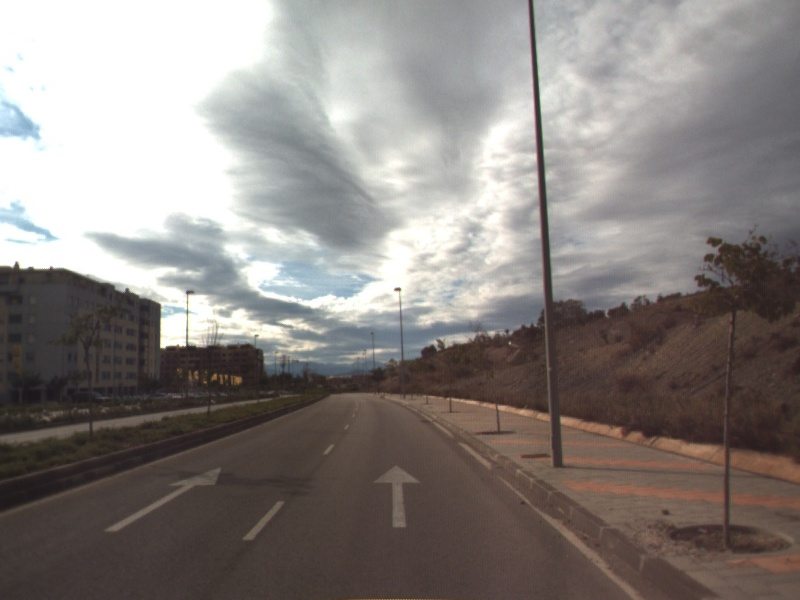STRAIGHT: (102, 465, 224, 534), (371, 463, 423, 530)
